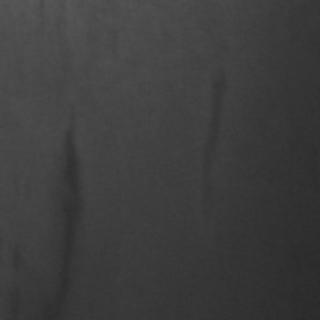inclusion: (46, 109, 88, 309), (193, 62, 234, 186)
